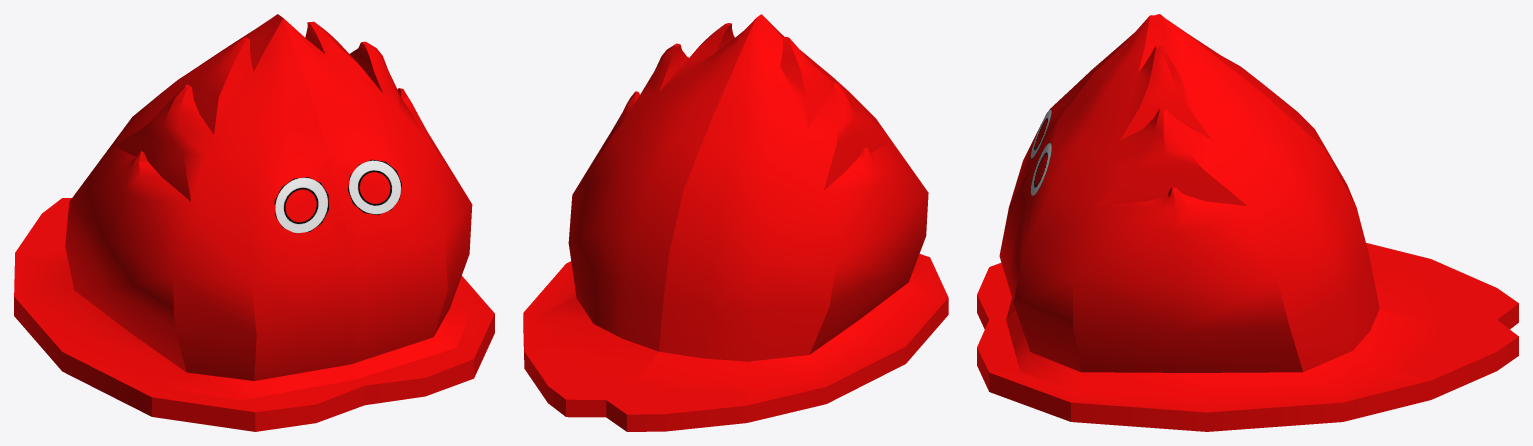
The model's file is slime_red1.24.fbx.
3 views of the same model, side by side, from view 1: azimuth 30°, elevation 25°; view 2: azimuth 150°, elevation 25°; view 3: azimuth 270°, elevation 25° (orthographic). The views are drawn at different scales.
Parts seen in each view (by area): view 1: r_body; view 2: r_body; view 3: r_body.
Boxes of the visible parts, bbox=[...] form: r_body: bbox=[14, 14, 494, 431]; r_body: bbox=[523, 14, 948, 431]; r_body: bbox=[977, 14, 1518, 431].
Size of the model in its own units: 4.85 by 3.95 by 5.99.
1 material, 1 textured.
